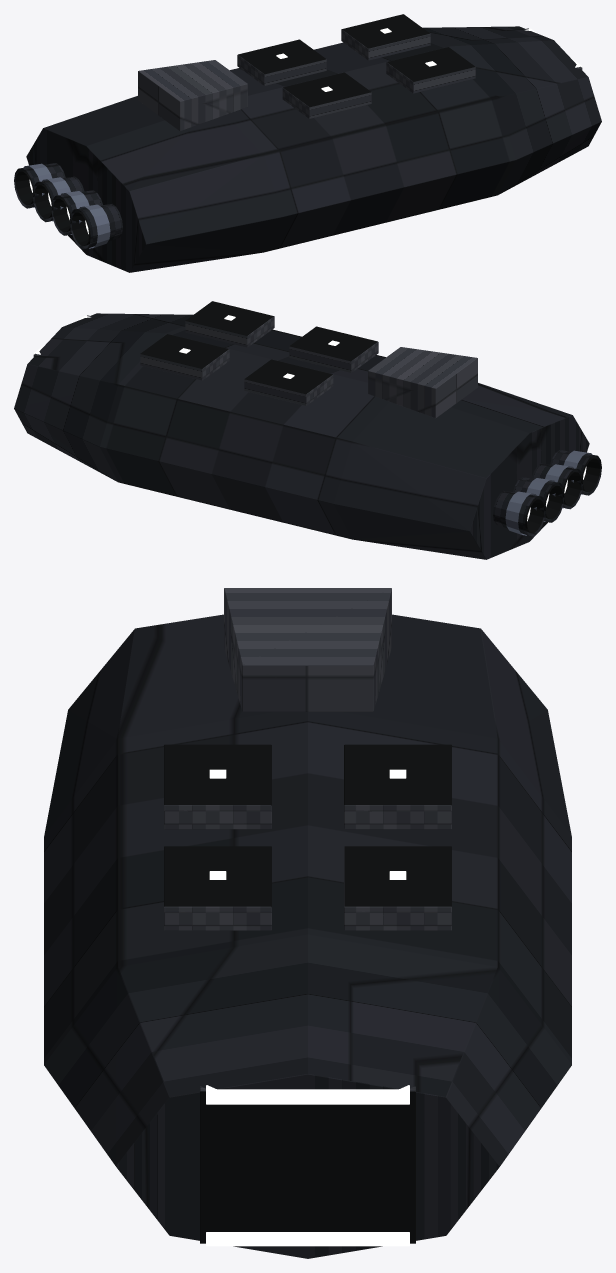
The model's file is assault.glb.
3 renders of one model, top to bottom at view 1: azimuth 30°, elevation 25°; view 2: azimuth 150°, elevation 25°; view 3: azimuth 270°, elevation 25°, orthographic. The views are drawn at different scales.
Parts seen in each view (by area): view 1: assault; view 2: assault; view 3: assault.
Part boxes in pixels (x1,y1,x2,y2): assault: (14,14,601,272); assault: (14,301,601,559); assault: (44,588,571,1258).
Size of the model in its own units: 30 by 9.2 by 13.59.
Materials: 1 (1 with a texture image).
